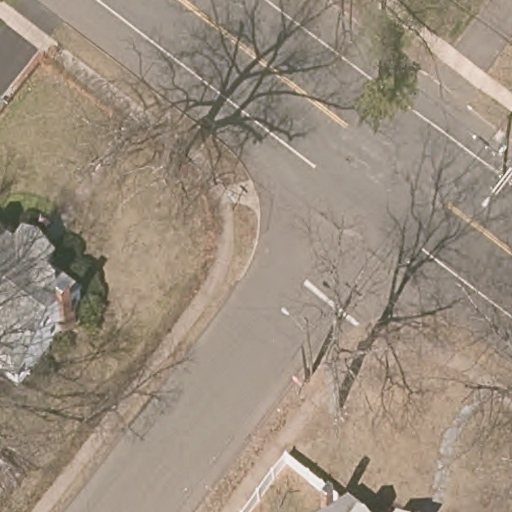DT: (472, 124, 512, 207), (293, 311, 324, 379)
